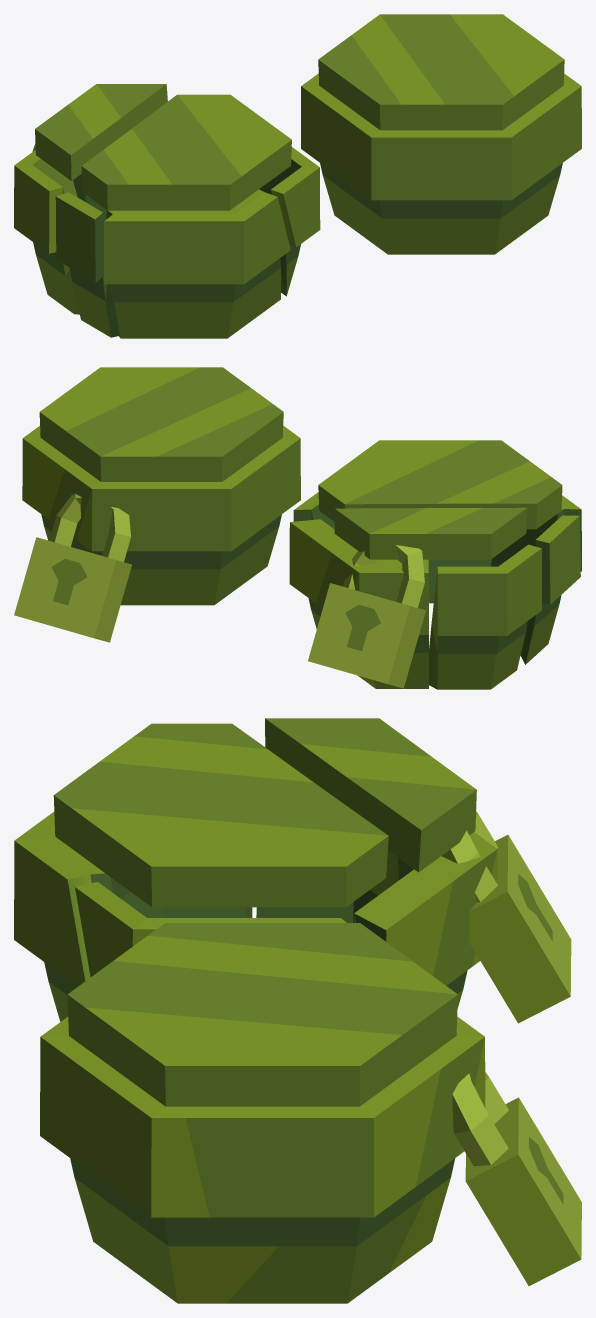
Rendered from steelChest.fbx.
3 renders of one model, top to bottom at view 1: azimuth 30°, elevation 25°; view 2: azimuth 150°, elevation 25°; view 3: azimuth 270°, elevation 25°, orthographic. The views are drawn at different scales.
Visible parts, largest first — view 1: Mesh_SteelChest, Mesh_SteelChest.007, Mesh_SteelChest.003, Mesh_SteelChest.004, Mesh_SteelChest.008, Mesh_SteelChest.006, Mesh_SteelChest.001; view 2: Mesh_SteelChest, Mesh_SteelChest.003, Mesh_SteelChest.006, Mesh_SteelChest.002, Mesh_SteelChest.004, Mesh_SteelChest.005, Mesh_SteelChest.008, Mesh_SteelChest.007, Mesh_SteelChest.001; view 3: Mesh_SteelChest, Mesh_SteelChest.003, Mesh_SteelChest.004, Mesh_SteelChest.002, Mesh_SteelChest.007, Mesh_SteelChest.005, Mesh_SteelChest.001, Mesh_SteelChest.006, Mesh_SteelChest.008.
Boxes of the visible parts, x1=… form: Mesh_SteelChest: x1=301, y1=14, x2=581, y2=254; Mesh_SteelChest.007: x1=104, y1=189, x2=290, y2=338; Mesh_SteelChest.003: x1=81, y1=94, x2=291, y2=210; Mesh_SteelChest.004: x1=35, y1=84, x2=167, y2=180; Mesh_SteelChest.008: x1=55, y1=192, x2=119, y2=337; Mesh_SteelChest.006: x1=14, y1=150, x2=79, y2=314; Mesh_SteelChest.001: x1=259, y1=147, x2=320, y2=296; Mesh_SteelChest: x1=14, y1=367, x2=300, y2=642; Mesh_SteelChest.003: x1=318, y1=440, x2=562, y2=529; Mesh_SteelChest.006: x1=429, y1=544, x2=541, y2=689; Mesh_SteelChest.002: x1=308, y1=545, x2=425, y2=688; Mesh_SteelChest.004: x1=334, y1=507, x2=527, y2=559; Mesh_SteelChest.005: x1=289, y1=519, x2=428, y2=688; Mesh_SteelChest.008: x1=520, y1=515, x2=580, y2=664; Mesh_SteelChest.007: x1=428, y1=495, x2=581, y2=603; Mesh_SteelChest.001: x1=293, y1=492, x2=334, y2=529; Mesh_SteelChest: x1=40, y1=923, x2=581, y2=1303; Mesh_SteelChest.003: x1=53, y1=723, x2=388, y2=907; Mesh_SteelChest.004: x1=265, y1=718, x2=476, y2=872; Mesh_SteelChest.002: x1=441, y1=811, x2=571, y2=1023; Mesh_SteelChest.007: x1=14, y1=812, x2=163, y2=1021; Mesh_SteelChest.005: x1=354, y1=832, x2=497, y2=1009; Mesh_SteelChest.001: x1=75, y1=882, x2=346, y2=976; Mesh_SteelChest.006: x1=256, y1=850, x2=398, y2=922; Mesh_SteelChest.008: x1=163, y1=907, x2=252, y2=917.
Size of the model in its own units: 4.05 by 2.54 by 1.34.
